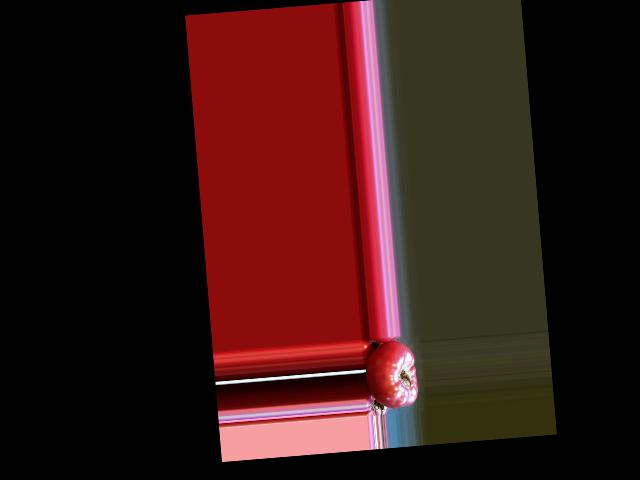tomato: (363, 337, 419, 410)
